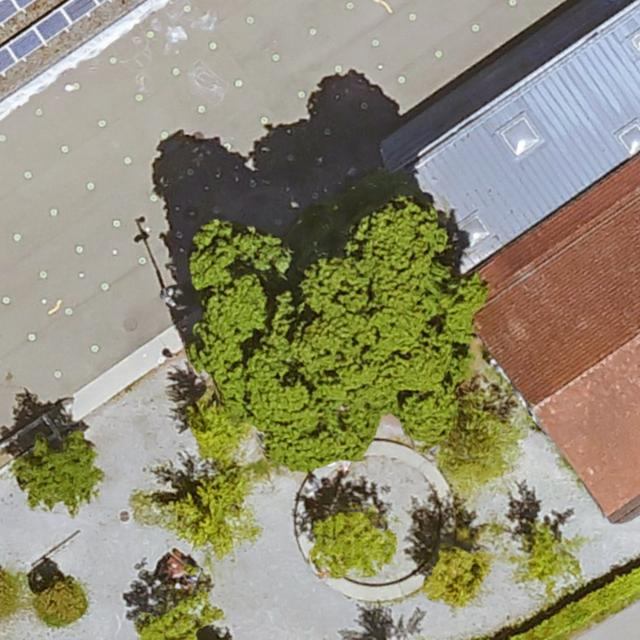tree: (186, 217, 488, 464), (159, 470, 245, 544), (19, 430, 99, 506), (306, 506, 393, 573), (143, 585, 228, 640), (430, 542, 484, 604), (192, 397, 240, 451), (530, 527, 574, 580), (39, 578, 86, 622), (373, 610, 422, 640)
